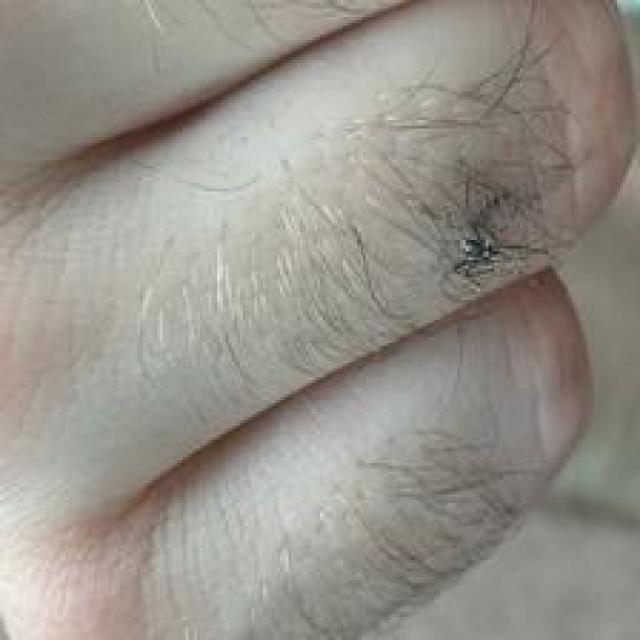Aedes albopictus: (448, 224, 548, 282)
